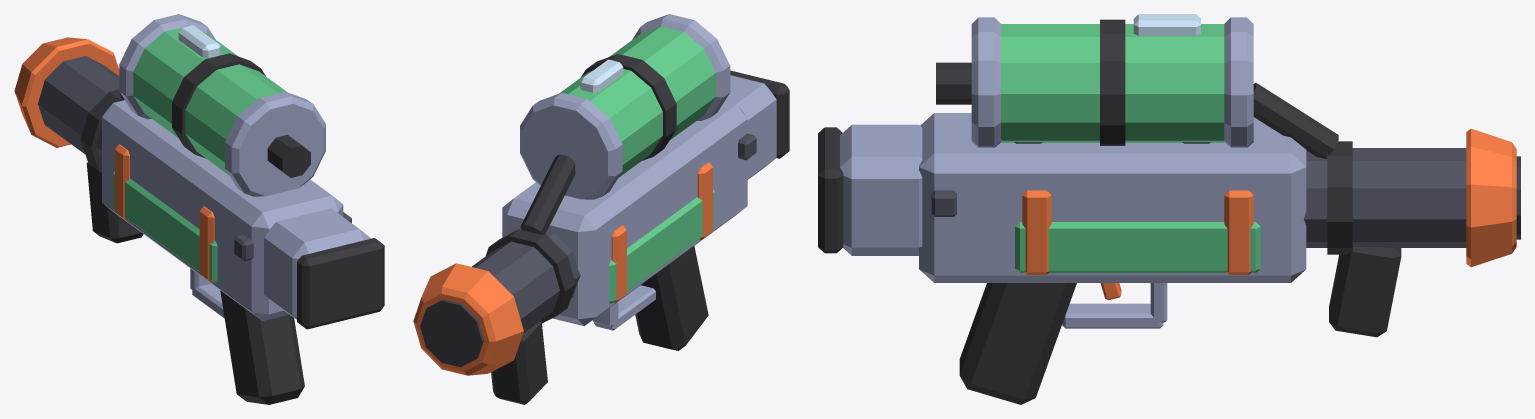
File: blaster-mug.glb
3 renders of one model, left to right at view 1: azimuth 30°, elevation 25°; view 2: azimuth 150°, elevation 25°; view 3: azimuth 270°, elevation 25°, orthographic. The views are drawn at different scales.
Parts seen in each view (by area): view 1: blaster-mug; view 2: blaster-mug; view 3: blaster-mug.
Boxes of the visible parts, x1,y1,x2,y2 form: blaster-mug: (14,14,384,404); blaster-mug: (413,14,789,404); blaster-mug: (818,14,1520,404).
Size of the model in its own units: 0.18 by 0.4975 by 0.835.
Materials: 1 (1 with a texture image).
